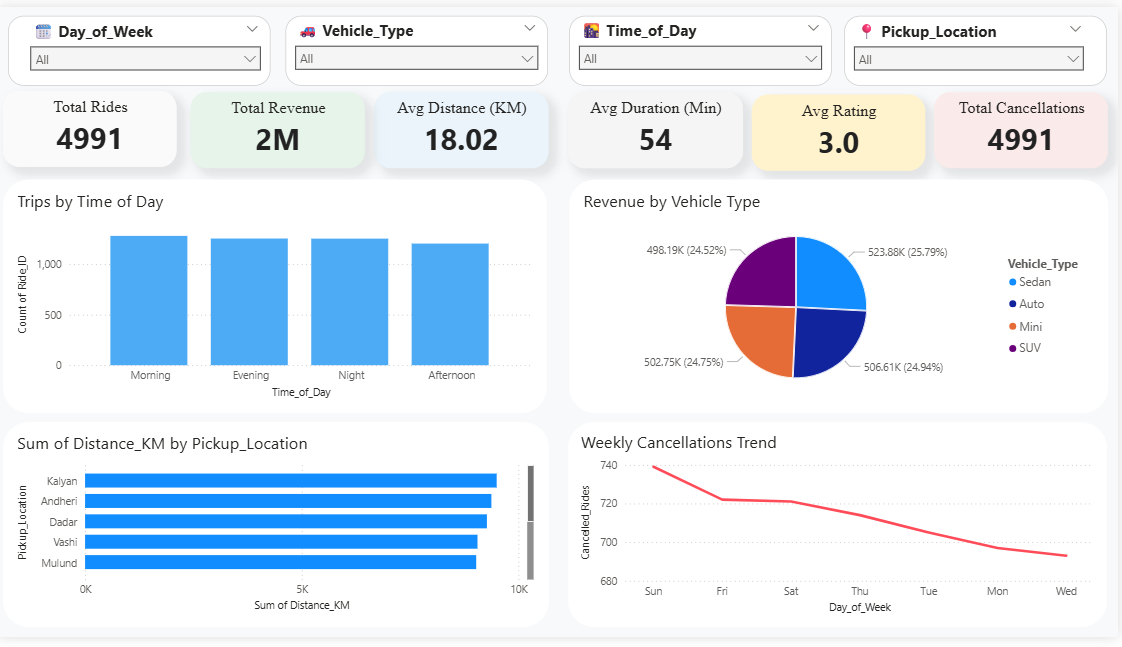

What the dashboard file says about the page in this screenshot:
{"tool":"powerbi","page":{"name":"ride_sharing_dashboard_2","canvas":[1280,720],"ordinal":1},"visuals":[{"type":"slicer","title":"📅 Day_of_Week","fields":{"Values":["ola_uber_rides_simulated.Day_of_Week"]},"box":[11.2,10,299.8,79.6],"z":0},{"type":"slicer","fields":{"Values":["ola_uber_rides_simulated.Vehicle_Type"]},"box":[328.4,10,299.8,79.6],"z":1000},{"type":"slicer","fields":{"Values":["ola_uber_rides_simulated.Time_of_Day"]},"box":[653.1,10,299.8,79.6],"z":2000},{"type":"slicer","fields":{"Values":["ola_uber_rides_simulated.Pickup_Location"]},"box":[967.8,10,299.8,79.6],"z":3000},{"type":"card","title":"Total Rides","fields":{"Values":["CountNonNull(ola_uber_rides_simulated.Ride_ID)"]},"box":[5.7,95.7,198.6,87.1],"z":4000},{"type":"card","title":"Avg Distance (KM)","fields":{"Values":["Avg(ola_uber_rides_simulated.Distance_KM)"]},"box":[430.4,97,199,87.1],"z":5000},{"type":"card","title":"Total Revenue","fields":{"Values":["Sum(ola_uber_rides_simulated.Fare_Amount)"]},"box":[220.7,97.2,199.5,87.3],"z":6000},{"type":"card","title":" Avg Duration (Min)","fields":{"Values":["Avg(ola_uber_rides_simulated.Duration_Minutes)"]},"box":[651.4,97.1,200,87.1],"z":7000},{"type":"card","title":"Avg Rating","fields":{"Values":["Avg(ola_uber_rides_simulated.Customer_Rating)"]},"box":[861.4,100,198.6,87.1],"z":8000},{"type":"card","title":"Total Cancellations","fields":{"Values":["ola_uber_rides_simulated.Total_Cancellations"]},"box":[1070,97.1,198.6,87.1],"z":9000},{"type":"columnChart","title":"Trips by Time of Day","fields":{"Category":["ola_uber_rides_simulated.Time_of_Day"],"Y":["CountNonNull(ola_uber_rides_simulated.Ride_ID)"]},"box":[6.2,196.5,622,267.5],"z":10000},{"type":"pieChart","title":"Revenue by Vehicle Type","fields":{"Category":["ola_uber_rides_simulated.Vehicle_Type"],"Y":["Sum(ola_uber_rides_simulated.Fare_Amount)"]},"box":[653.1,196.5,615.8,267.5],"z":11000},{"type":"clusteredBarChart","fields":{"Category":["ola_uber_rides_simulated.Pickup_Location"],"Y":["Sum(ola_uber_rides_simulated.Distance_KM)"]},"box":[5.7,474.3,624.3,234.3],"z":12000},{"type":"lineChart","title":"Weekly Cancellations Trend","fields":{"Category":["ola_uber_rides_simulated.Day_of_Week"],"Y":["ola_uber_rides_simulated.Cancelled_Rides"]},"box":[651.4,474.3,615.7,234.3],"z":13001}]}

Visuals, with their boxes in screenshot pixels (x1, y1, x2, y2), scaled from the page's 1280x720 canvas onto the 1122x647 screenshot:
"📅 Day_of_Week" slicer: 10:9:273:81
slicer - ola_uber_rides_simulated.Vehicle_Type: 288:9:551:81
slicer - ola_uber_rides_simulated.Time_of_Day: 572:9:835:81
slicer - ola_uber_rides_simulated.Pickup_Location: 848:9:1111:81
"Total Rides" card: 5:86:179:164
"Avg Distance (KM)" card: 377:87:552:165
"Total Revenue" card: 193:87:368:166
" Avg Duration (Min)" card: 571:87:746:166
"Avg Rating" card: 755:90:929:168
"Total Cancellations" card: 938:87:1112:166
"Trips by Time of Day" columnChart: 5:177:551:417
"Revenue by Vehicle Type" pieChart: 572:177:1112:417
clusteredBarChart - ola_uber_rides_simulated.Pickup_Location x Sum(ola_uber_rides_simulated.Distance_KM): 5:426:552:637
"Weekly Cancellations Trend" lineChart: 571:426:1111:637
